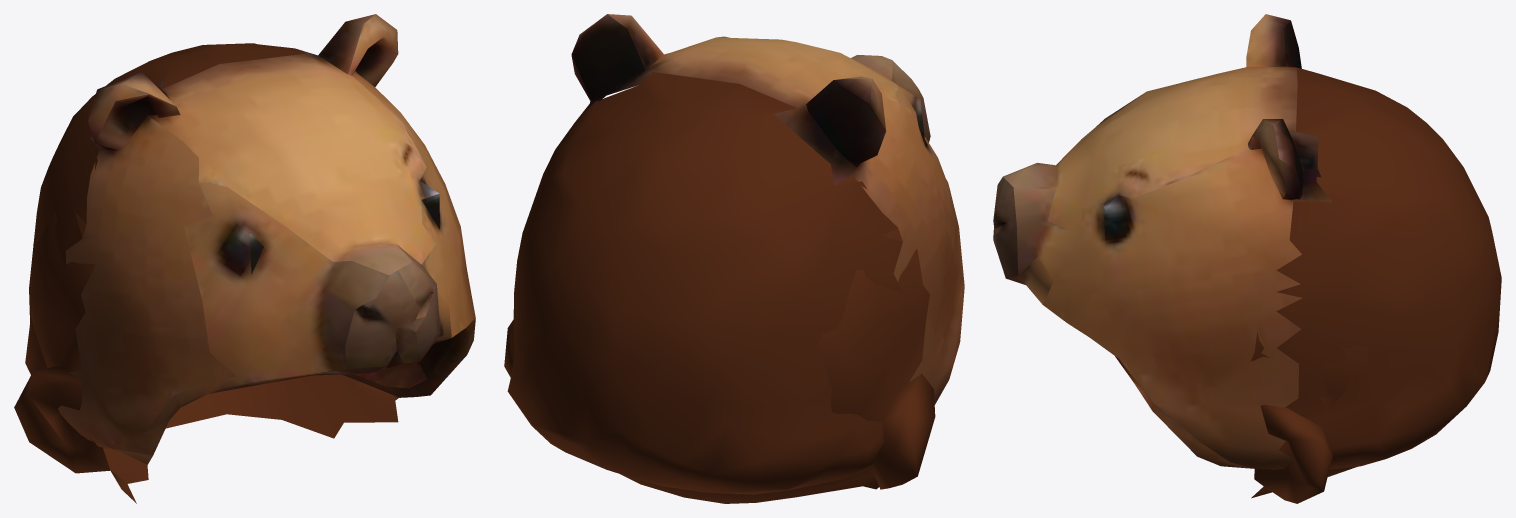
File: capybara.glb
The picture shows the model from 3 angles, left to right: view 1: azimuth 30°, elevation 25°; view 2: azimuth 150°, elevation 25°; view 3: azimuth 270°, elevation 25°; orthographic projection. The views are drawn at different scales.
Visible parts, largest first — view 1: geometry_0, HoodAnatomicalLining; view 2: geometry_0, HoodAnatomicalLining; view 3: geometry_0, HoodAnatomicalLining.
Boxes of the visible parts, box(x1,y1,x2,y2) form: geometry_0: box(25, 14, 475, 464); HoodAnatomicalLining: box(14, 212, 398, 503); geometry_0: box(507, 14, 964, 494); HoodAnatomicalLining: box(504, 175, 935, 503); geometry_0: box(993, 14, 1501, 469); HoodAnatomicalLining: box(1251, 199, 1374, 503).
Size of the model in its own units: 0.5073 by 0.492 by 0.5905.
2 materials, 1 textured.
